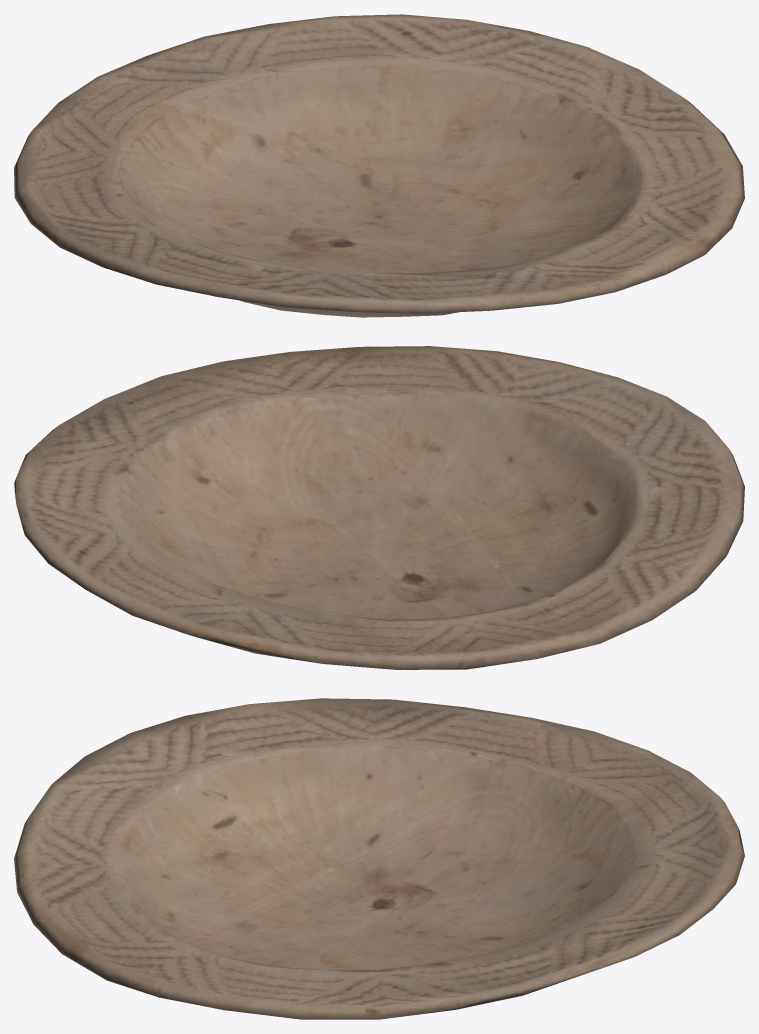
The model's file is plate-0-mid.glb.
3 renders of one model, top to bottom at view 1: azimuth 30°, elevation 25°; view 2: azimuth 150°, elevation 25°; view 3: azimuth 270°, elevation 25°, orthographic. The views are drawn at different scales.
Visible parts, largest first — view 1: carved_wooden_plate; view 2: carved_wooden_plate; view 3: carved_wooden_plate.
Part boxes in pixels (bbox=[...]): carved_wooden_plate: bbox=[14, 14, 744, 317]; carved_wooden_plate: bbox=[14, 346, 744, 669]; carved_wooden_plate: bbox=[14, 698, 744, 1019].
Bounding box in the file's own units: 0.29 × 0.0402 × 0.2867.
1 material, 1 textured.
